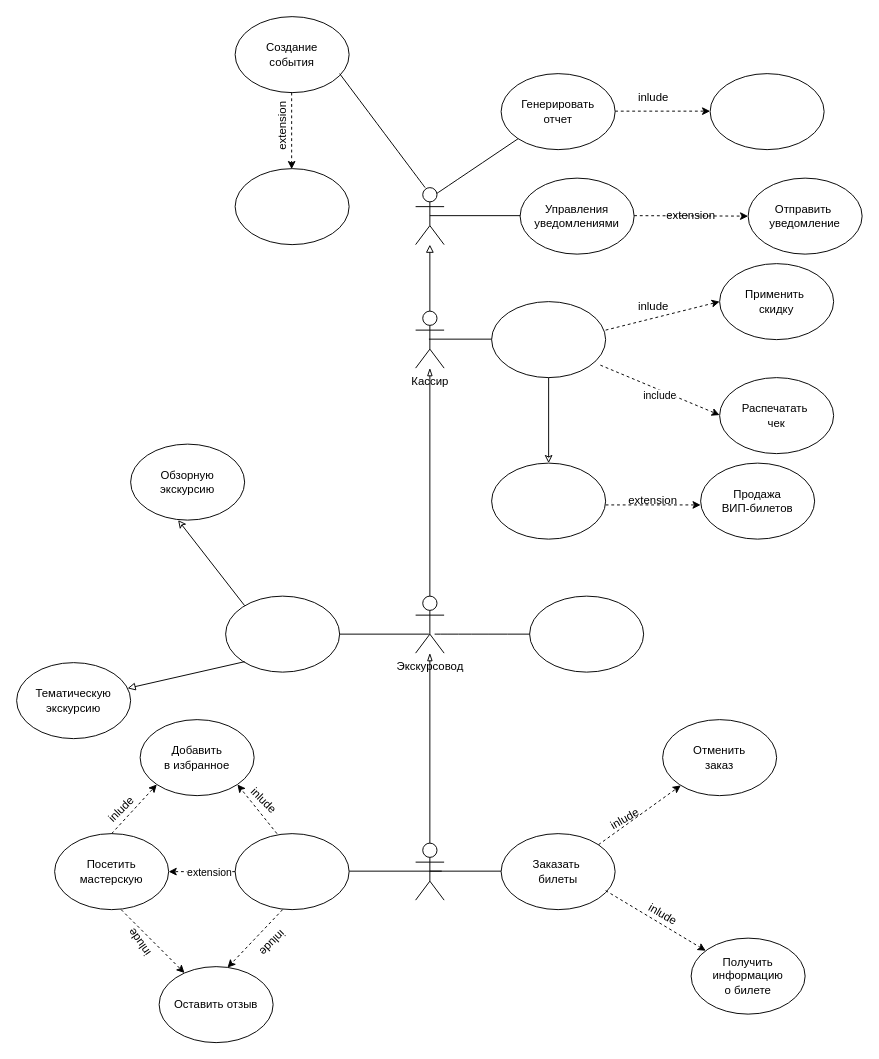
Image size: 879x1059. Some labels were removed from this diagram. Each missing label, with the centre of its shape:
Администратор: point 429,216
Анализ посещаемости: point 766,111
Получить информацию о билетах: point 586,633
Посетитель: point 429,871
Посетить выставку: point 291,871
Провести экскурсию: point 282,633
Продажа билетов: point 548,339
Продажа обычных билетов: point 548,500
Редактирование события: point 291,206
